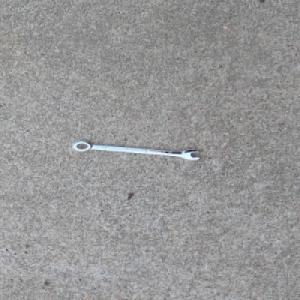Wrench: (71, 140, 201, 160)
